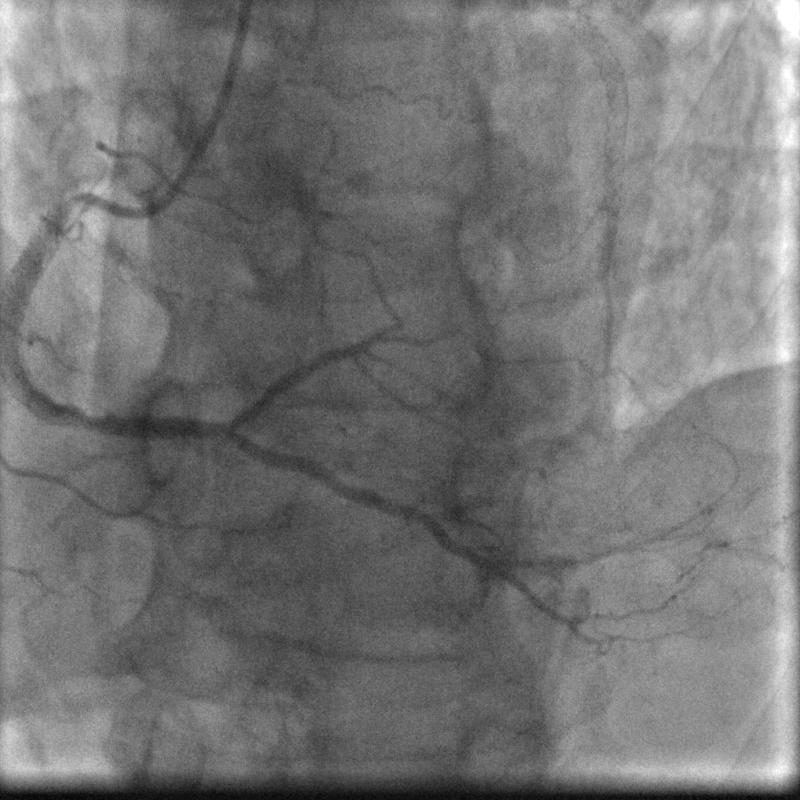Stenosis: (44, 175, 93, 230)
